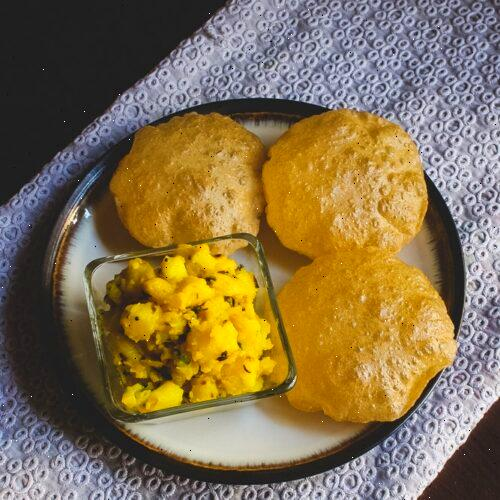puri: (290, 130, 445, 419)
